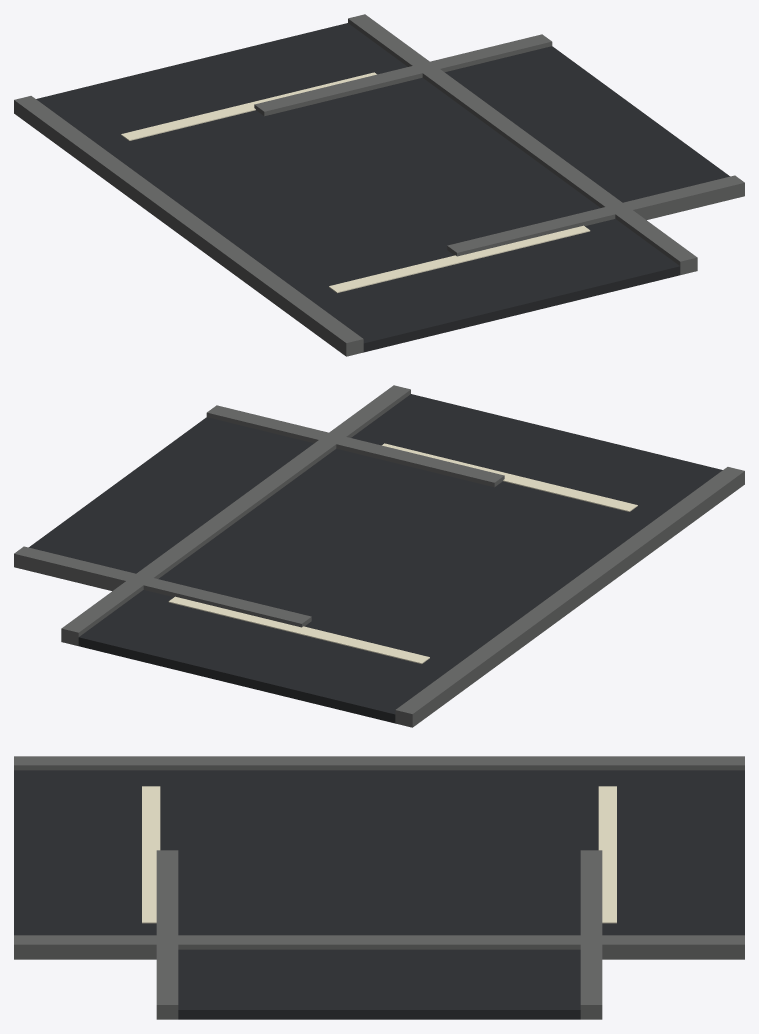
The model's file is road_highway_tee.glb.
3 views of the same model, one above another, from view 1: azimuth 30°, elevation 25°; view 2: azimuth 150°, elevation 25°; view 3: azimuth 270°, elevation 25° (orthographic). The views are drawn at different scales.
Parts seen in each view (by area): view 1: body; view 2: body; view 3: body.
Part boxes in pixels (<box>): body: <box>14,14,744,356</box>; body: <box>14,385,744,727</box>; body: <box>14,756,744,1019</box>.
Size of what is drawn, in the model's own units: 6.44 by 0.18 by 8.
